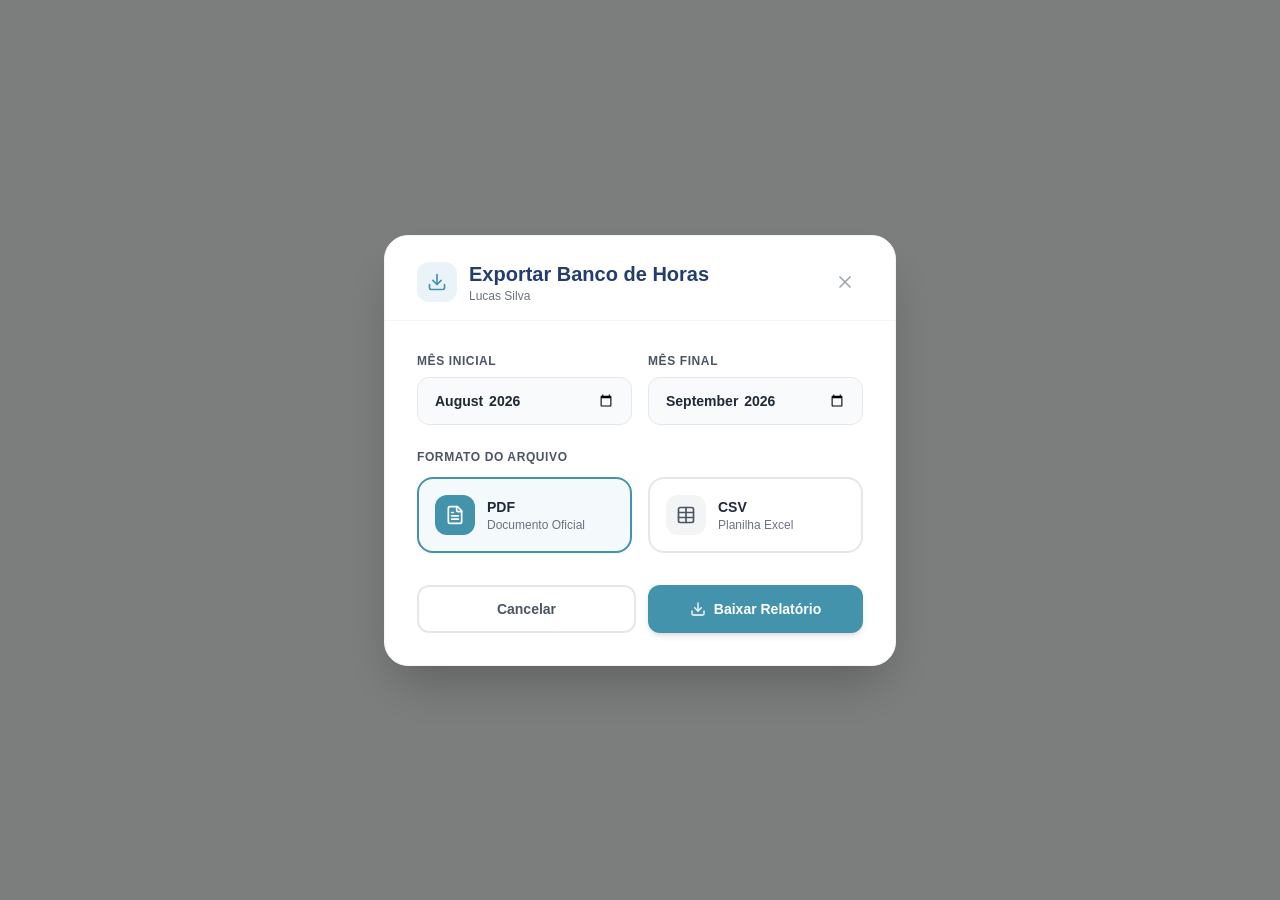
it: ExportarBancoHorasModal › exibe mensagem de erro quando backend retorna falha
Click the button "Baixar Relatório": (756, 608) [648, 584, 863, 632]
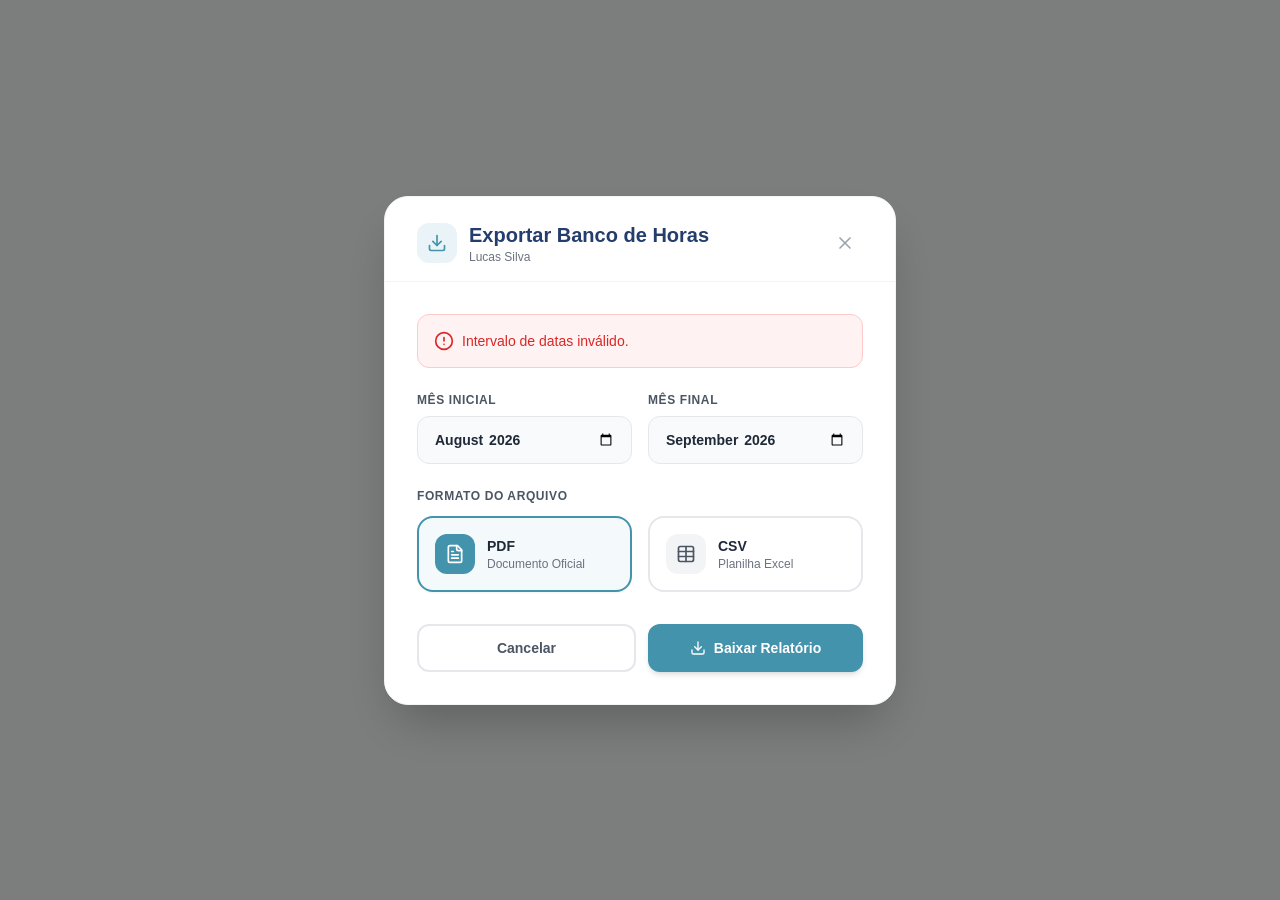
Expected: the text "Intervalo de datas inválido." is shown, [462, 330, 629, 350]
